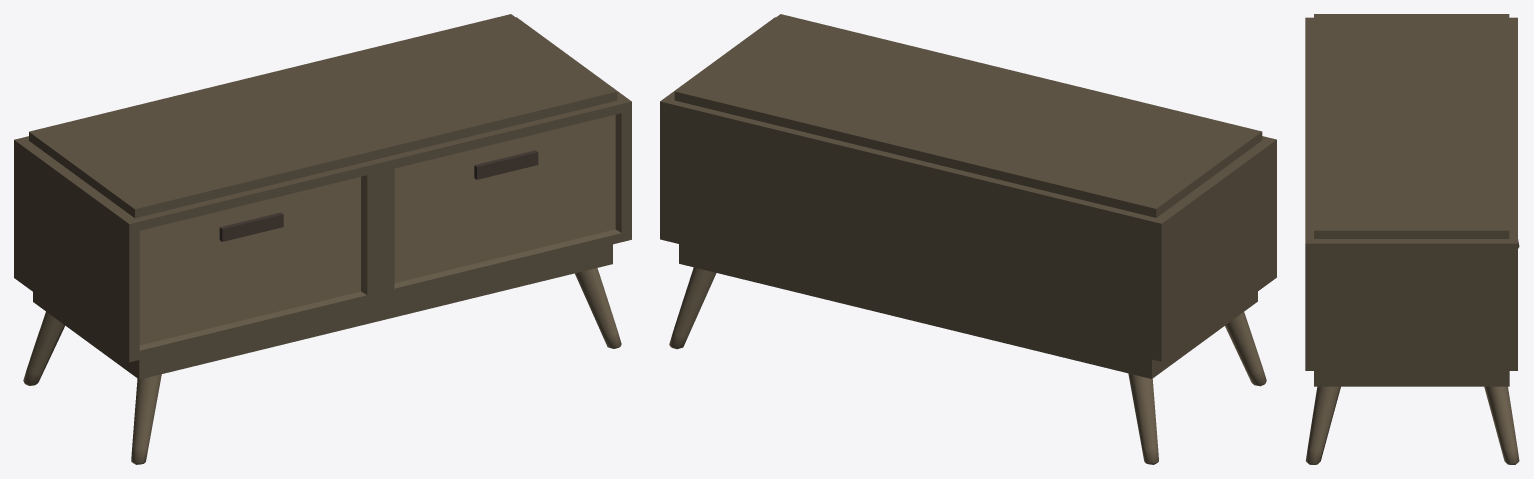
File: drawer_1.glb
The picture shows the model from 3 angles, left to right: view 1: azimuth 30°, elevation 25°; view 2: azimuth 150°, elevation 25°; view 3: azimuth 270°, elevation 25°; orthographic projection. The views are drawn at different scales.
Visible parts, largest first — view 1: Drawer_1; view 2: Drawer_1; view 3: Drawer_1.
Boxes of the visible parts, left/top/right/bottom form: Drawer_1: left=14, top=14, right=631, bottom=464; Drawer_1: left=660, top=14, right=1276, bottom=464; Drawer_1: left=1305, top=14, right=1519, bottom=464.
Bounding box in the file's own units: 2.79 × 1.35 × 1.12.
